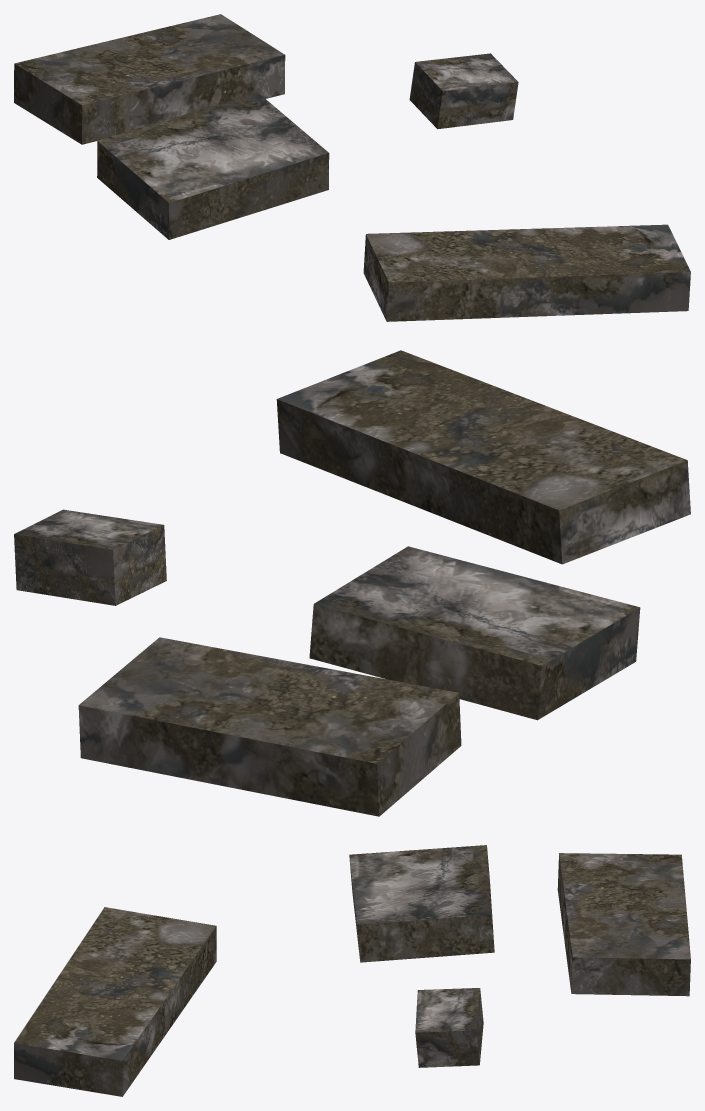
File: FreeTiles1.fbx
3 views of the same model, one above another, from view 1: azimuth 30°, elevation 25°; view 2: azimuth 150°, elevation 25°; view 3: azimuth 270°, elevation 25° (orthographic). The views are drawn at different scales.
Parts seen in each view (by area): view 1: FreeTiles1; view 2: FreeTiles1; view 3: FreeTiles1.
Boxes of the visible parts, <box> form: FreeTiles1: <box>14,14,690,321</box>; FreeTiles1: <box>14,350,690,816</box>; FreeTiles1: <box>14,845,690,1096</box>.
Size of the model in its own units: 210 by 330 by 43.31.
